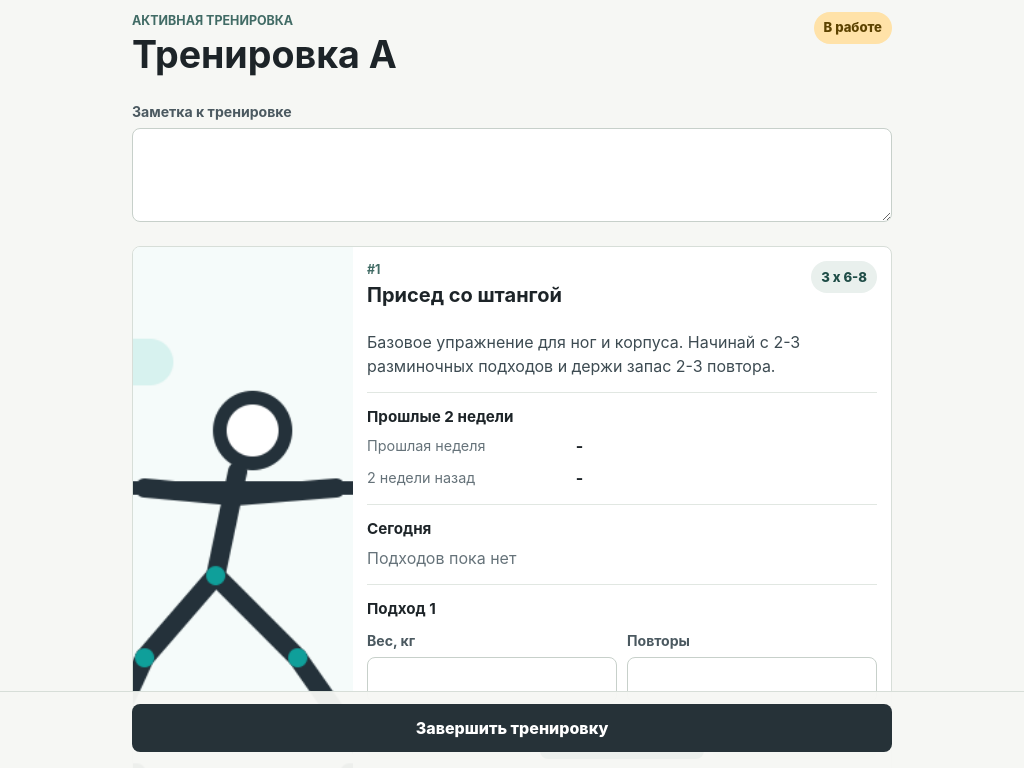
ActiveWorkoutScreen › disables complete while completion is pending
The width and height of the screenshot is (1024, 768).
Step 1. Click the button "Завершить тренировку" → {"x": 512, "y": 728}, box 132,704 -> 892,752
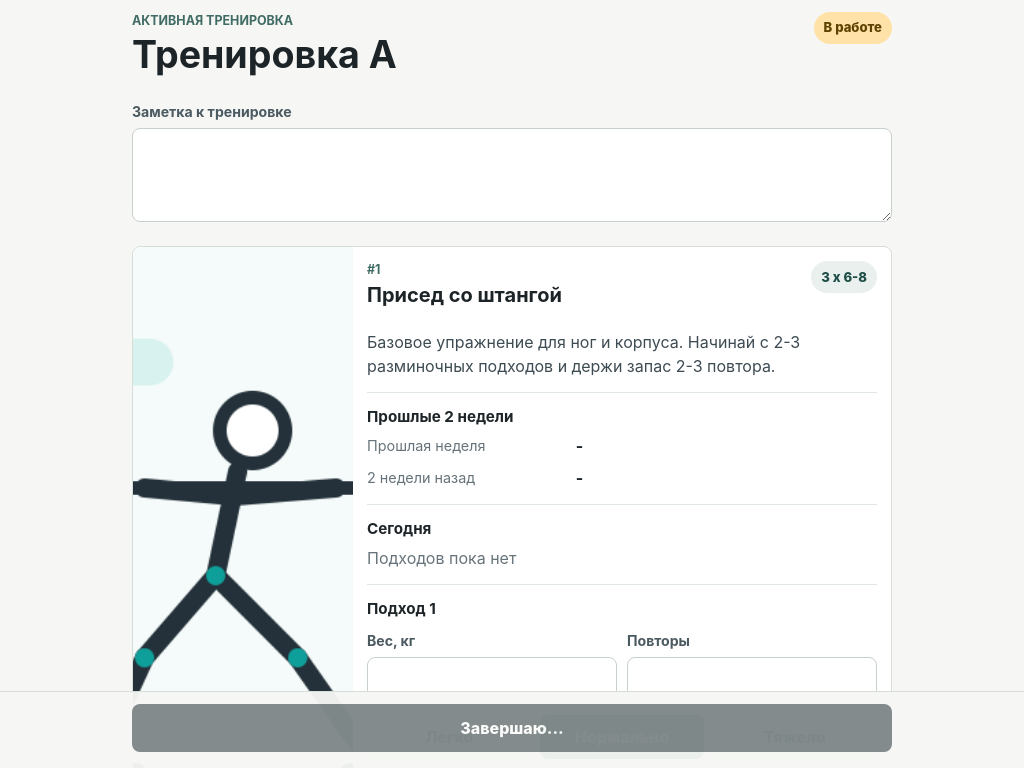
Expected: the button "Завершаю..." is disabled
Step 2. Click the button "Завершаю..." → {"x": 512, "y": 728}, box 132,704 -> 892,752
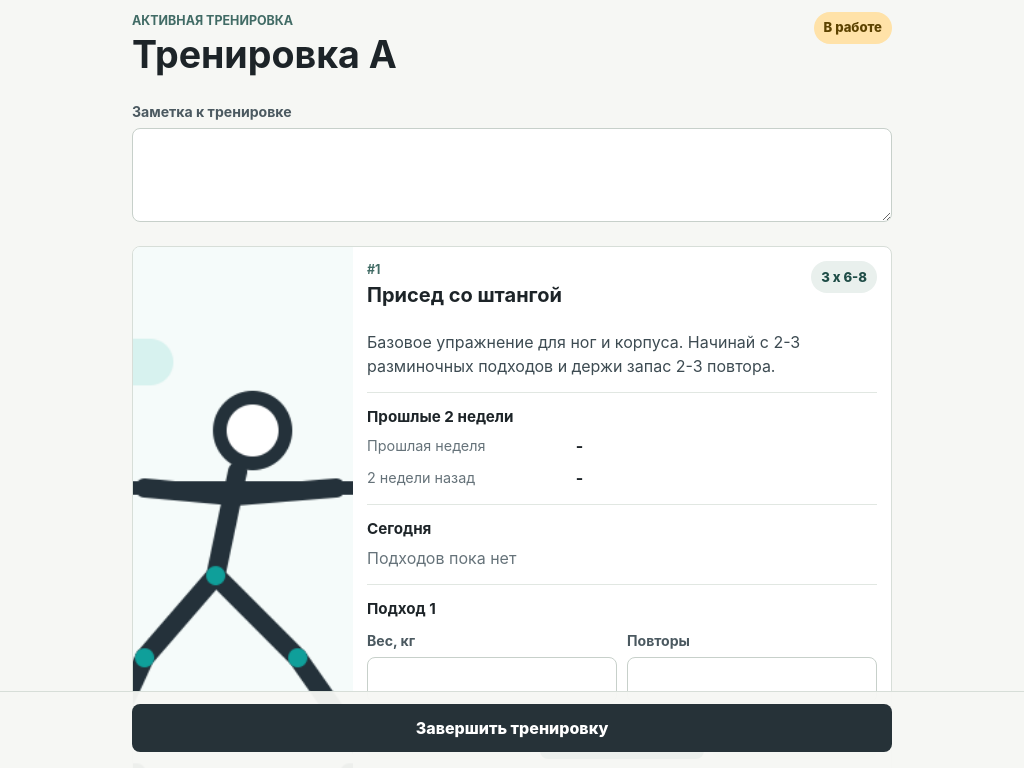
Expected: the button "Завершить тренировку" is enabled, 132,704 -> 892,752
